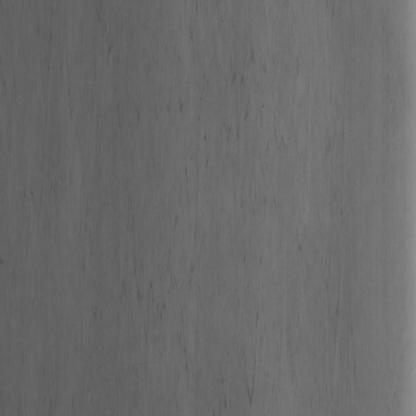silk_spot: (99, 48, 272, 384)
